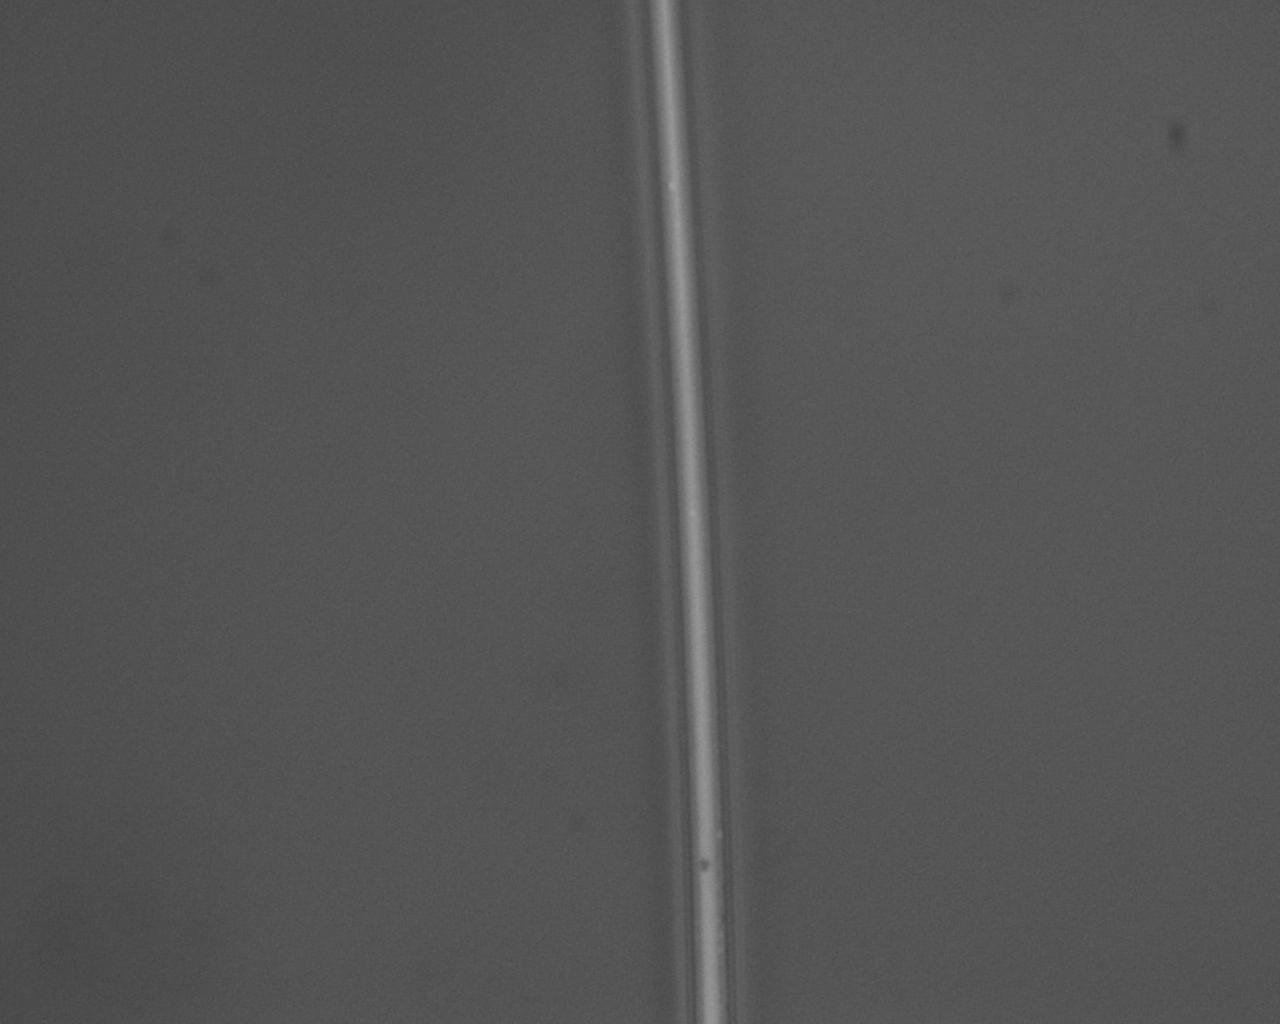fiber: (128, 372, 1152, 528)
